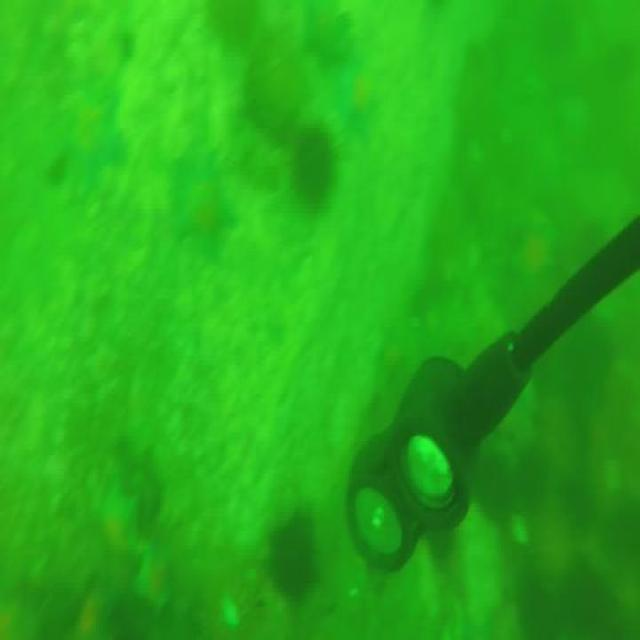echinus: (262, 511, 315, 604), (292, 122, 334, 206)
starfish: (166, 153, 233, 259), (65, 87, 122, 183)
